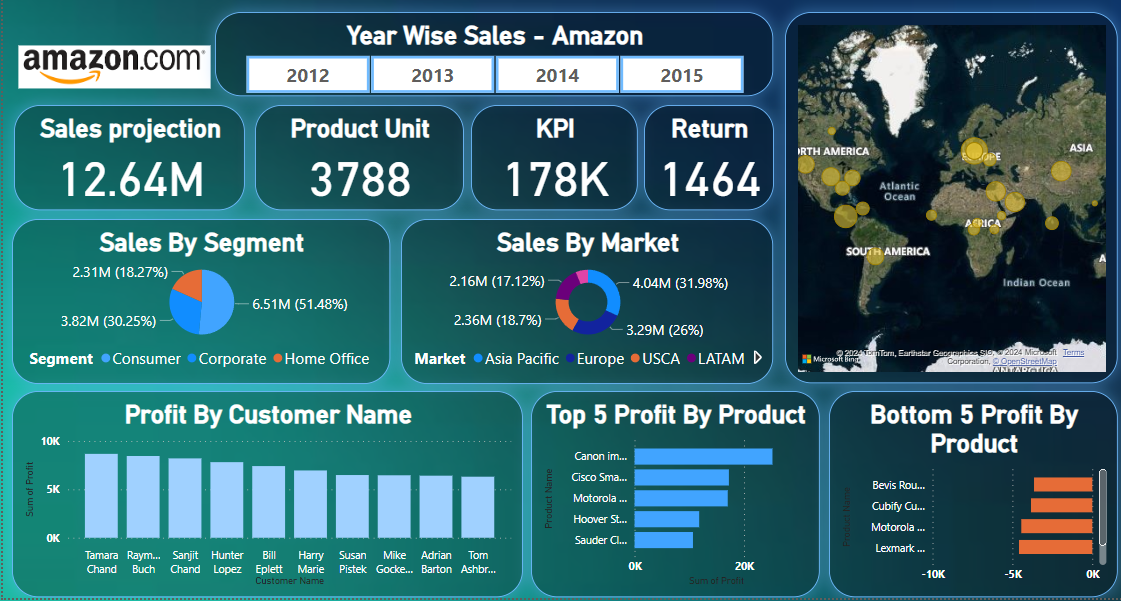

This screenshot's page, from the dashboard's own definition file:
{"tool":"powerbi","page":{"name":"Dash2 Formatting","canvas":[1280,720],"ordinal":1},"visuals":[{"type":"card","title":"Sales projection","fields":{"Values":["Orders.Sales"]},"box":[12.9,158.1,263.5,119.5],"z":0},{"type":"image","box":[12.9,20.6,228.8,188.9],"z":1000},{"type":"card","title":"Product Unit","fields":{"Values":["Orders.Product Name"]},"box":[286.6,158.1,237.8,119.5],"z":2000},{"type":"card","title":"KPI Rating","fields":{"Values":["Orders.Quantity"]},"box":[533.3,158.1,190.2,119.5],"z":3000},{"type":"card","title":"Return","fields":{"Values":["Orders.Ship Date"]},"box":[730,158.1,147.8,119.5],"z":4000},{"type":"pieChart","title":"Sales By Segment","fields":{"Category":["Orders.Segment"],"Y":["Orders.Sales"]},"box":[10.3,287.9,430.5,187.6],"z":5000},{"type":"donutChart","title":"Sales By Market","fields":{"Y":["Orders.Sales"],"Category":["Orders.Market"]},"box":[453.7,287.9,424.1,187.6],"z":6000},{"type":"columnChart","title":"Profit By Customer Name","fields":{"Category":["Orders.Customer Name"],"Y":["Orders.Profit"]},"box":[10.3,484.5,582.2,235.2],"z":7000},{"type":"clusteredBarChart","title":"Top 5 Profit By Product","fields":{"Y":["Orders.Profit"],"Category":["Orders.Product Name"]},"box":[601.4,484.5,329,235.2],"z":8000},{"type":"clusteredBarChart","title":"Bottom 5 Profit By Product","fields":{"Y":["Orders.Profit"],"Category":["Orders.Product Name"]},"box":[940.7,484.5,329,235.2],"z":9000},{"type":"slicer","title":"Year Wise Sales - Amazon","fields":{"Values":["Orders.Year"]},"box":[241.6,52.7,636.1,96.4],"z":10000},{"type":"map","fields":{"Category":["Orders.Region"],"Size":["Orders.Sales"]},"box":[890.6,52.7,379.1,422.8],"z":11000}]}

Visuals, with their boxes on the page's 1280x720 design canvas (x1, y1, x2, y2). These are canvas units, not pixel positions in the 1121x601 screenshot, which may show the page scaled, cropped or inside an application window:
"Sales projection" card: (13,158,276,278)
image: (13,21,242,210)
"Product Unit" card: (287,158,524,278)
"KPI Rating" card: (533,158,724,278)
"Return" card: (730,158,878,278)
"Sales By Segment" pieChart: (10,288,441,476)
"Sales By Market" donutChart: (454,288,878,476)
"Profit By Customer Name" columnChart: (10,484,592,720)
"Top 5 Profit By Product" clusteredBarChart: (601,484,930,720)
"Bottom 5 Profit By Product" clusteredBarChart: (941,484,1270,720)
"Year Wise Sales - Amazon" slicer: (242,53,878,149)
map - Orders.Region x Orders.Sales: (891,53,1270,476)
